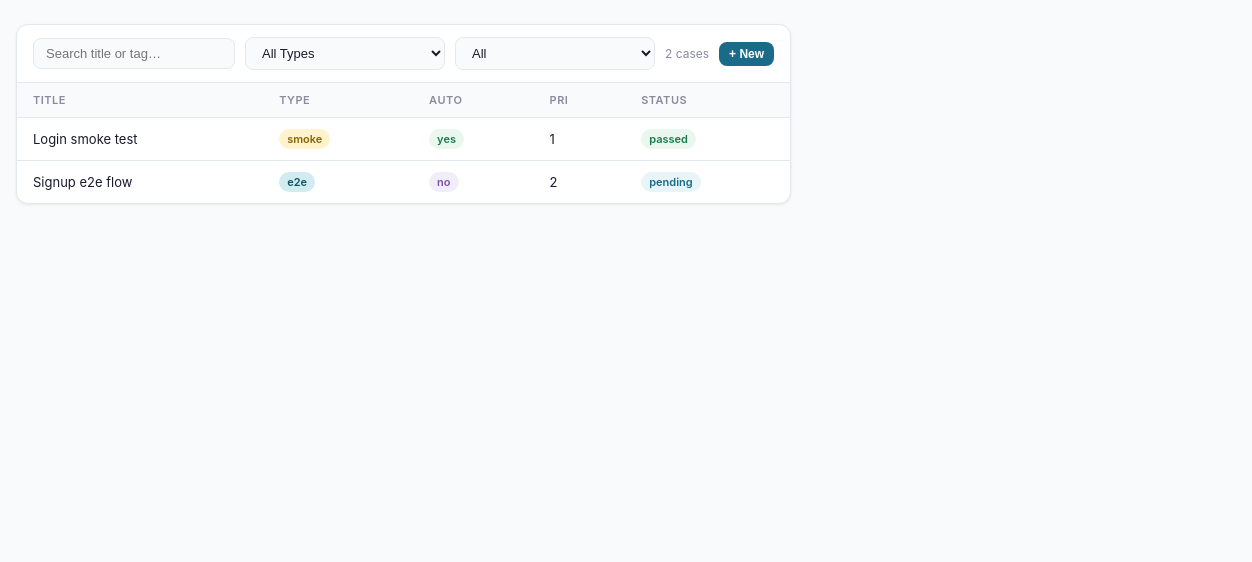
Test: TestCases — detail panel › opens detail panel on row click
Click the text "Login smoke test": (140, 139) [17,118,263,160]
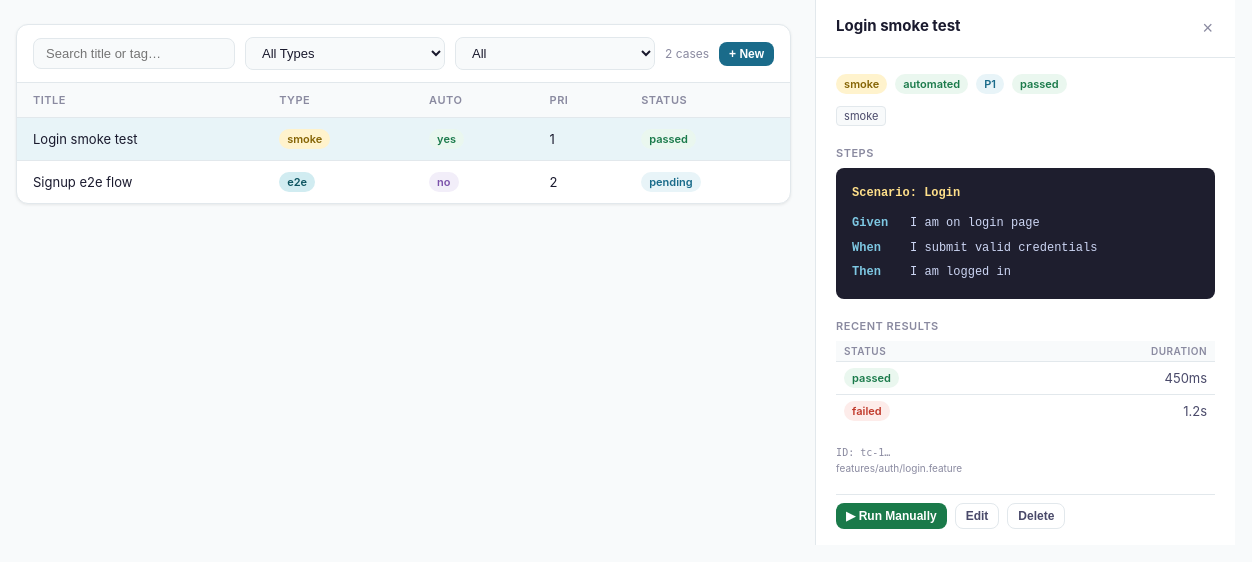
Expected: the element with test id "detail-panel" is shown, [815,0,1235,545]
